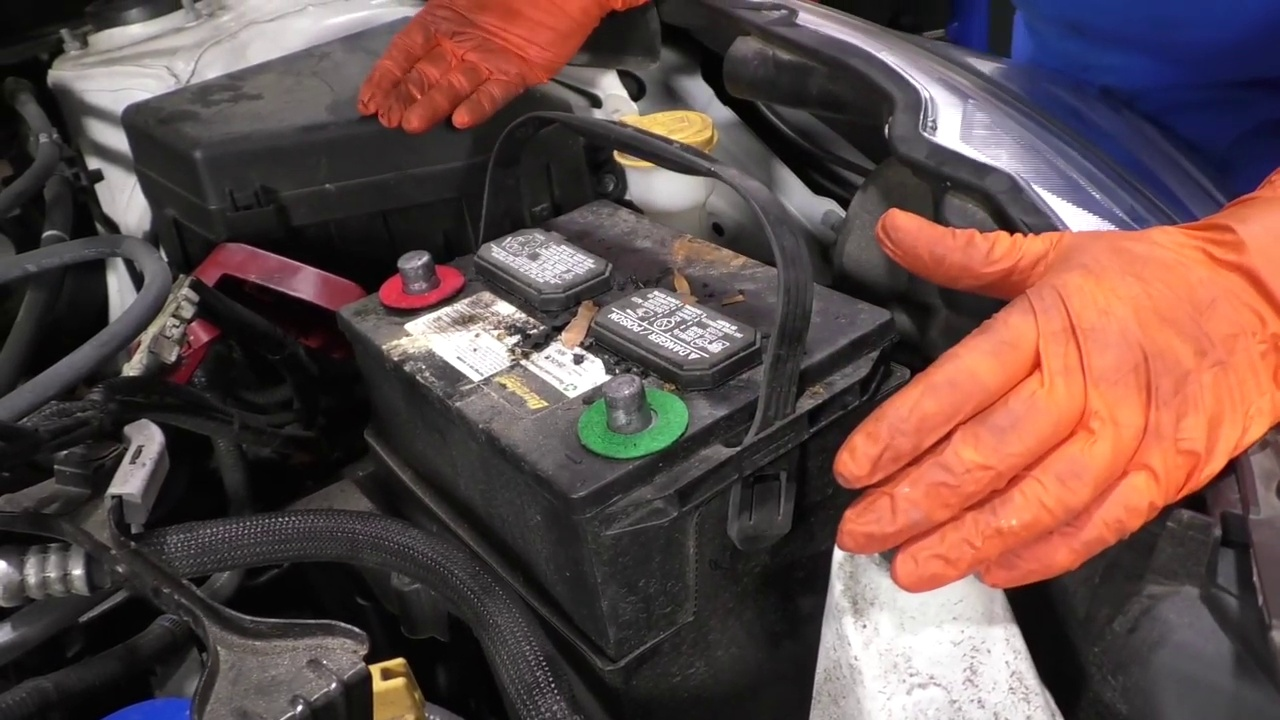battery: (342, 203, 892, 476)
neg_disconnected: (566, 360, 690, 479)
pos_disconnected: (217, 222, 477, 361)
